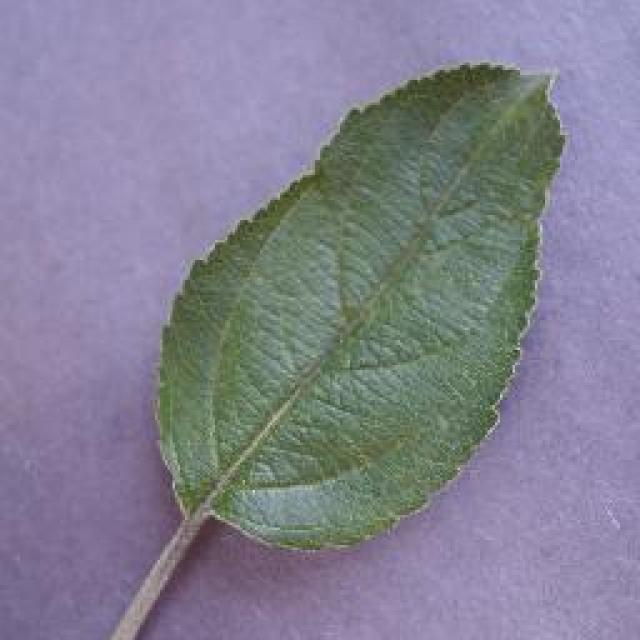apple healthy: (150, 55, 568, 555)
